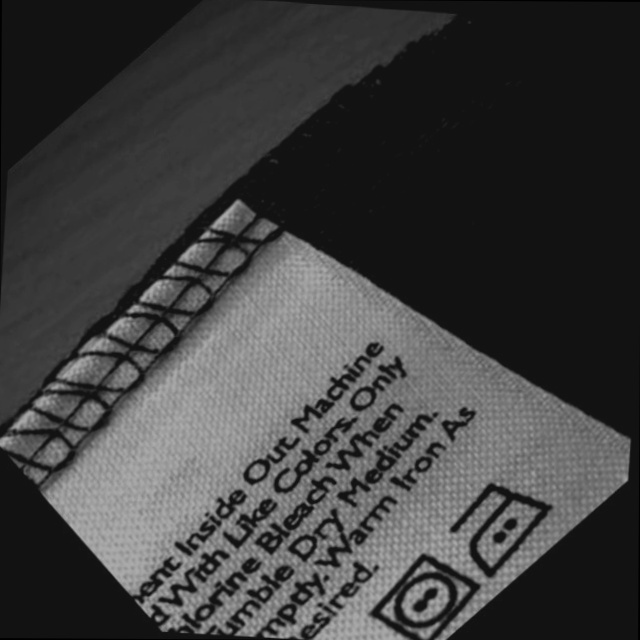iron_medium: (449, 480, 560, 578)
tumble_dry_medium: (370, 552, 485, 640)
